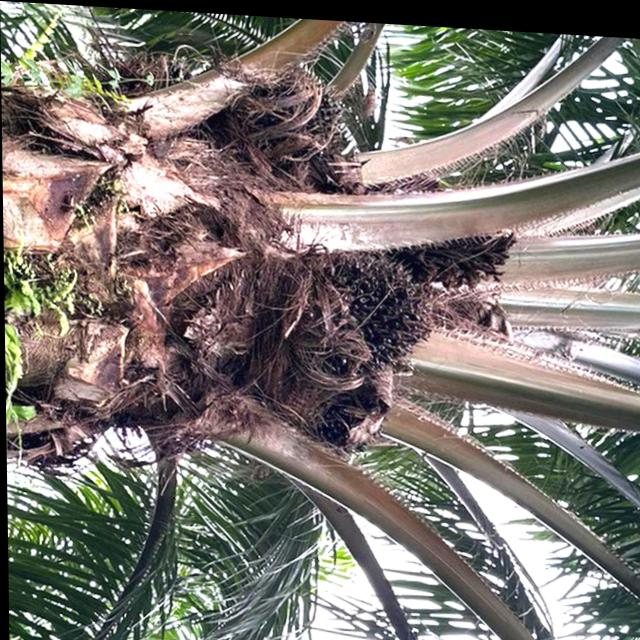unripe: (212, 47, 350, 183), (298, 243, 433, 377), (297, 381, 391, 465)
